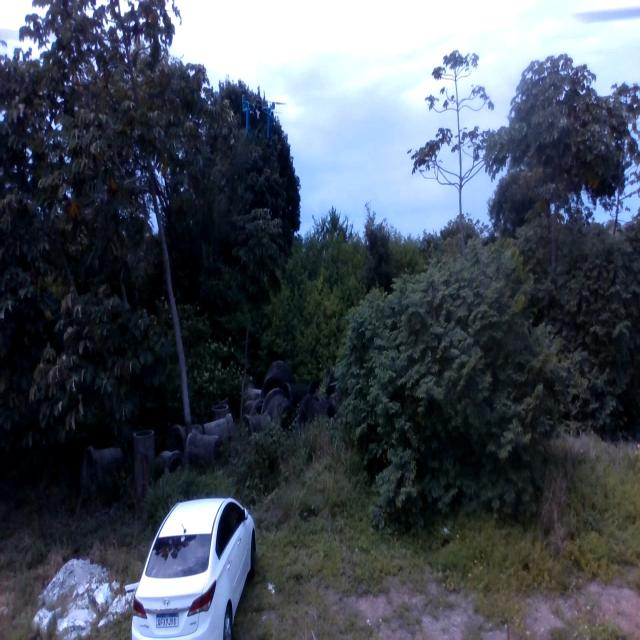-uav-: (240, 83, 284, 148)
